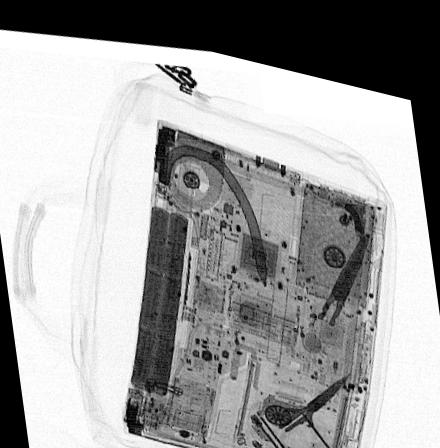Scissors: (276, 210, 375, 358), (245, 348, 357, 448)
